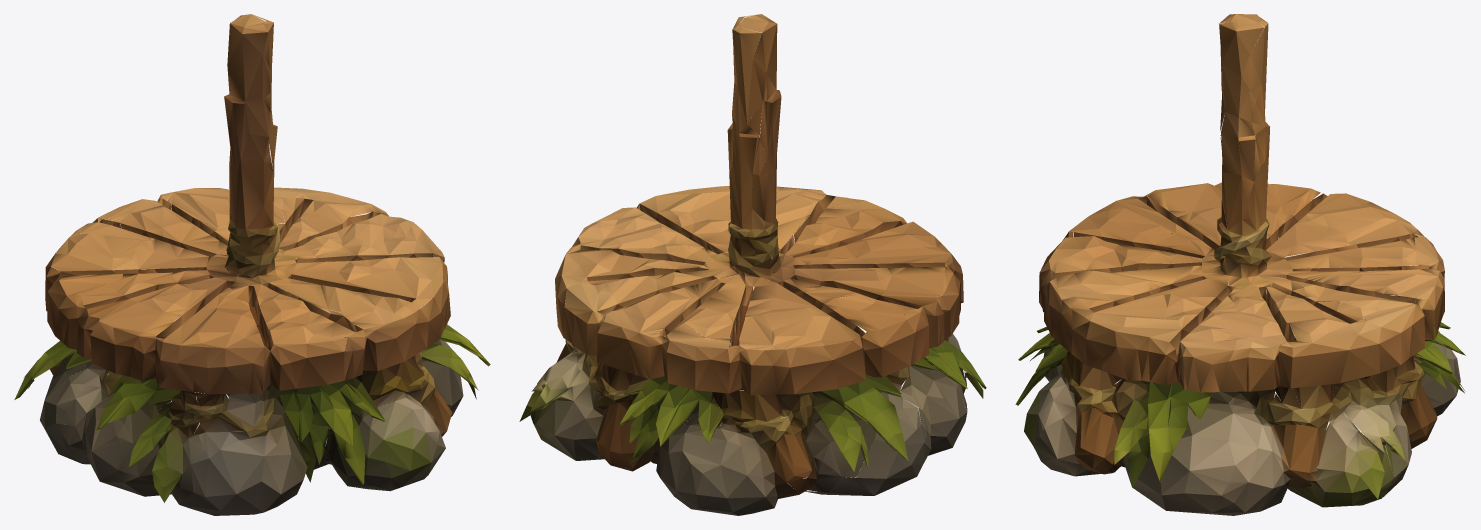
Rendered from building-sunDial.glb.
The picture shows the model from 3 angles, left to right: view 1: azimuth 30°, elevation 25°; view 2: azimuth 150°, elevation 25°; view 3: azimuth 270°, elevation 25°; orthographic projection.
Parts seen in each view (by area): view 1: 0_sunDial; view 2: 0_sunDial; view 3: 0_sunDial.
Boxes of the visible parts, box(x1,y1,x2,y2) form: 0_sunDial: box(14, 14, 490, 515); 0_sunDial: box(519, 14, 986, 515); 0_sunDial: box(1015, 14, 1465, 515).
Bounding box in the file's own units: 1.49 × 1.5 × 1.46.
